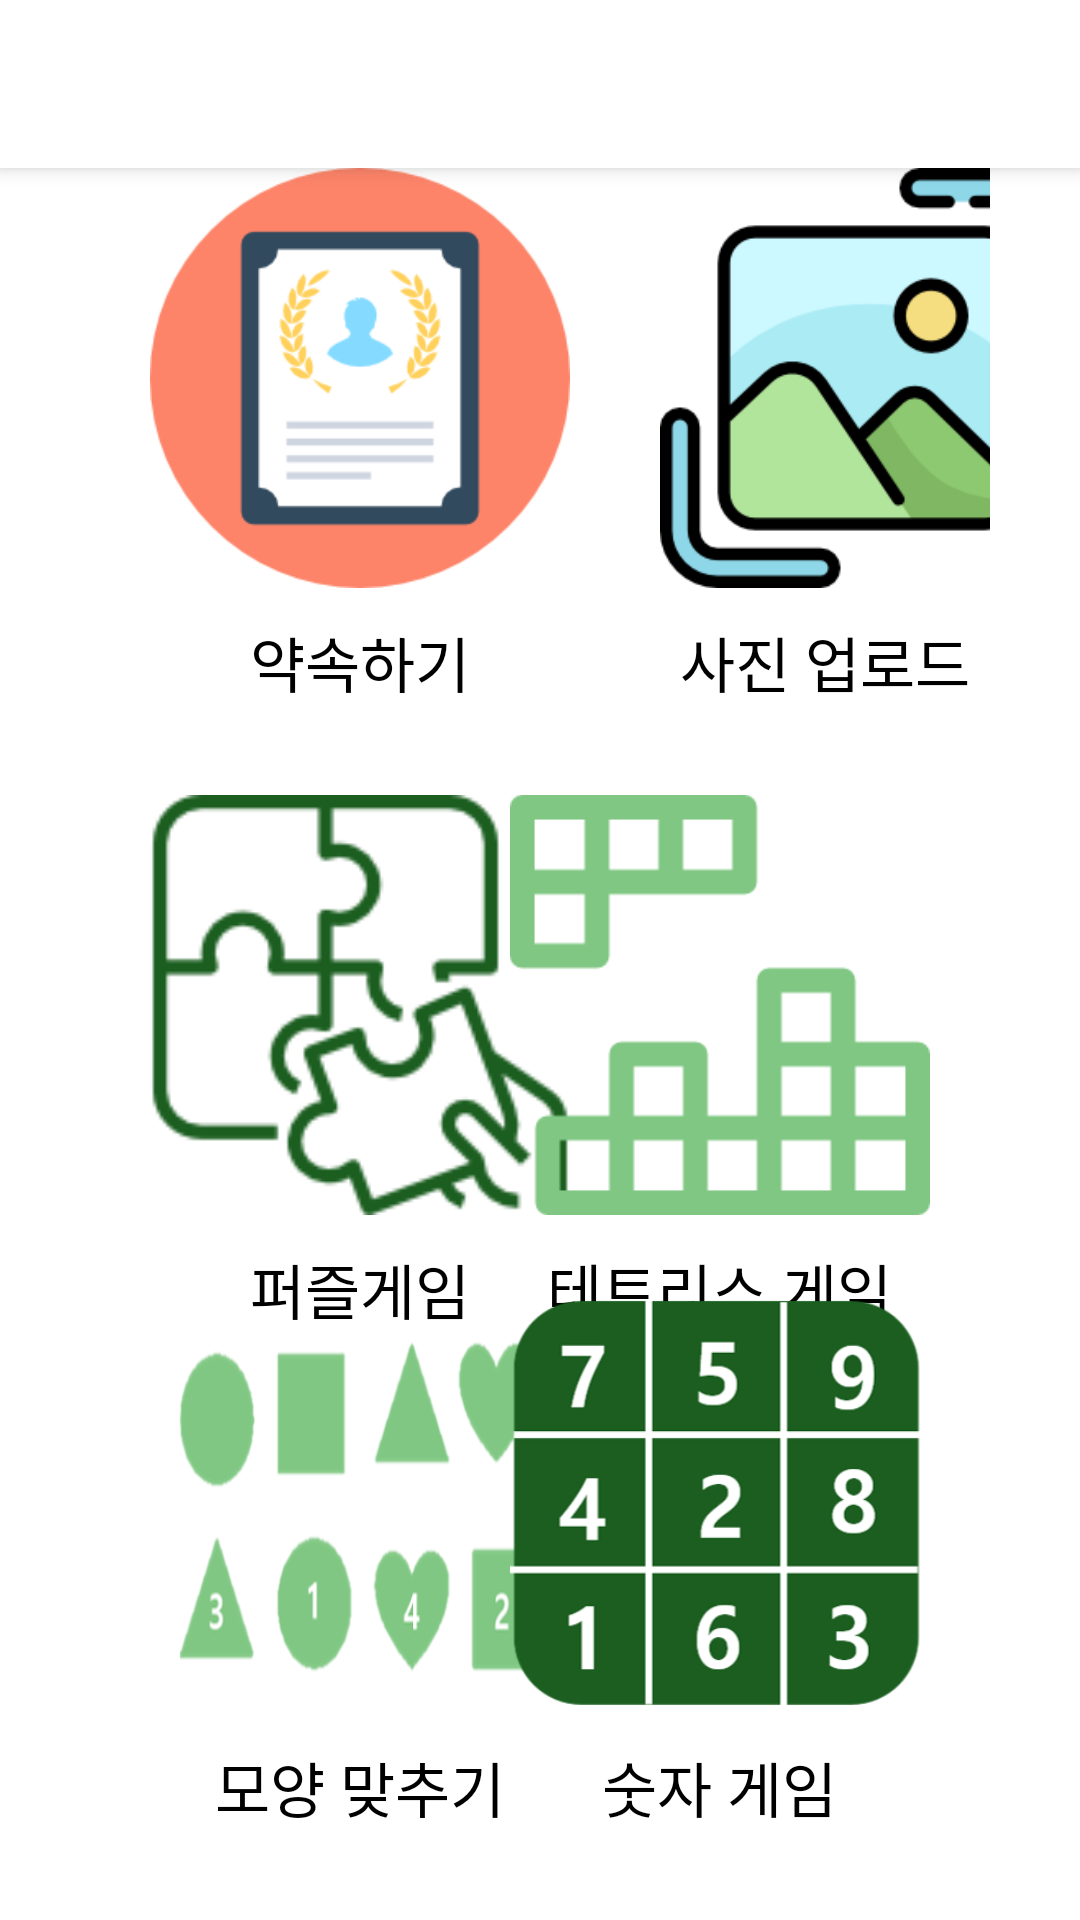

Named icons in this screenshot (1080*1920) and their centers, (x=x, y=y):
jigsaw: (x=325, y=968)
